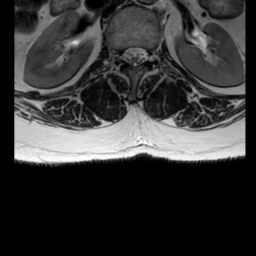CCS_normal: (130, 37, 138, 75)
LFS_normal: (148, 39, 156, 70)
LLS_normal: (138, 37, 148, 70)
RFS_stenosis: (114, 40, 122, 67)
RLS_normal: (122, 38, 130, 70)
